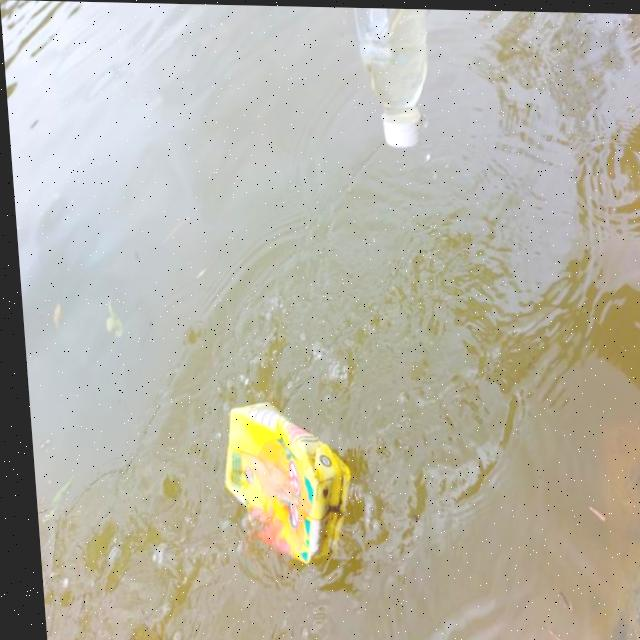paper: (190, 399, 362, 575)
waterbottle: (345, 10, 443, 160)
